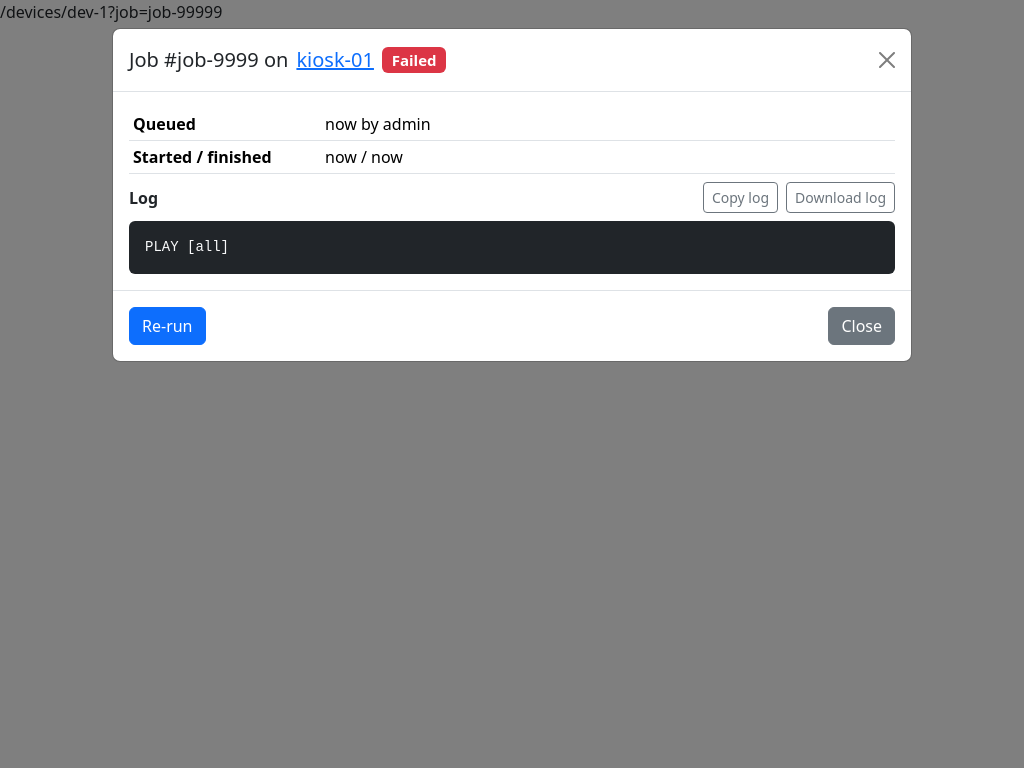
Scenario: job actions › offers Re-run for finished applies and switches to the new job
This screenshot has width=1024, height=768.
What coordinates should you click on to do the following:
click the button "Re-run"
I would click on:
 (167, 326)
Its box is [129,307,206,345].
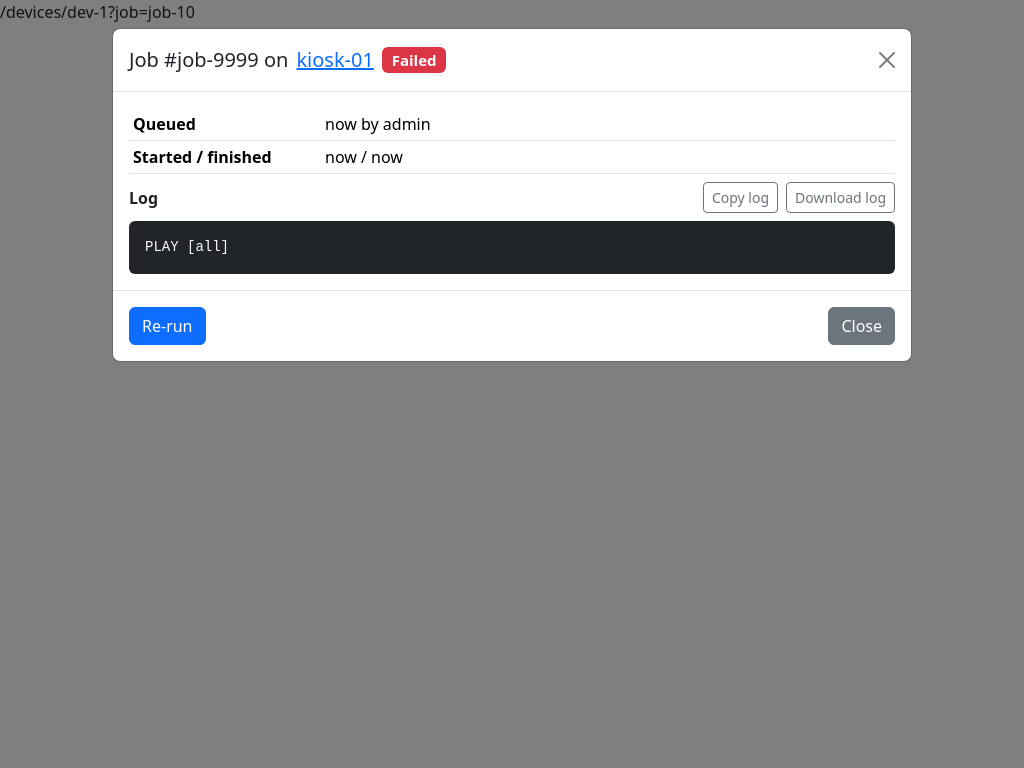
expect the text with test id "location" shows "?job=job-10": met, box [0,1,195,23]
